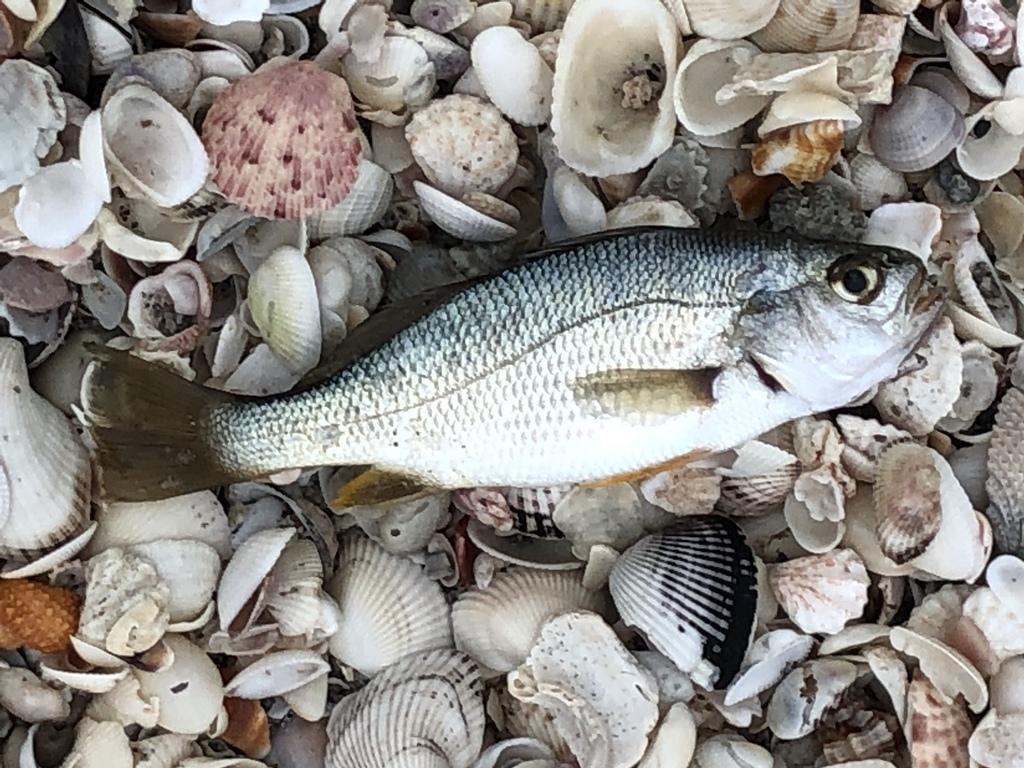Silver Perch: (51, 216, 951, 502)
